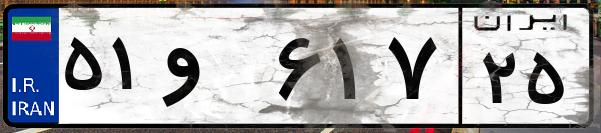1: (330, 28, 385, 110), (110, 28, 158, 98)
2: (475, 38, 525, 113)
5: (57, 26, 110, 100), (525, 38, 570, 115)
6: (270, 28, 330, 110)
7: (385, 28, 445, 110)
و: (158, 20, 270, 120)
